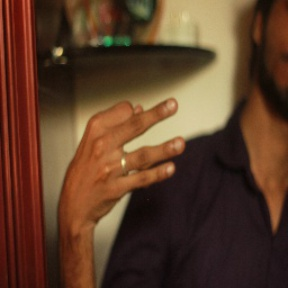K: (61, 97, 189, 211)
